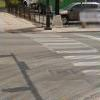Crosswalk: (30, 27, 100, 78)
